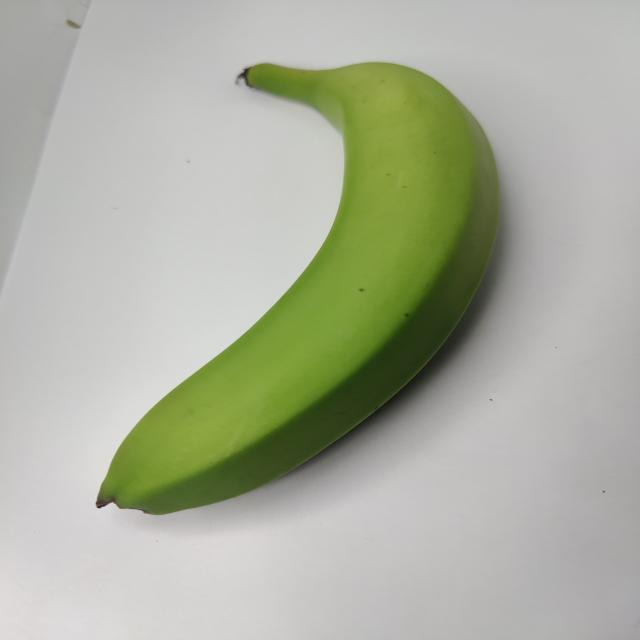raw: (77, 37, 523, 520)
